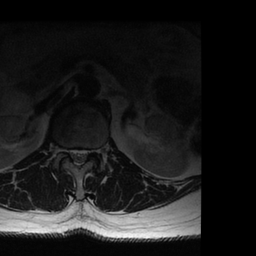CCS_normal: (75, 144, 81, 173)
LFS_severe_stenosis: (89, 142, 96, 159)
LLS_normal: (82, 144, 88, 167)
RFS_severe_stenosis: (62, 141, 69, 160)
RLS_normal: (68, 143, 75, 166)
